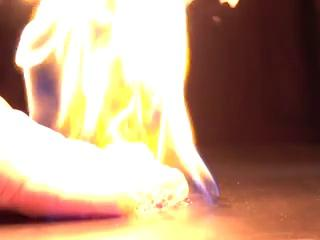Fire: (12, 1, 219, 209)
